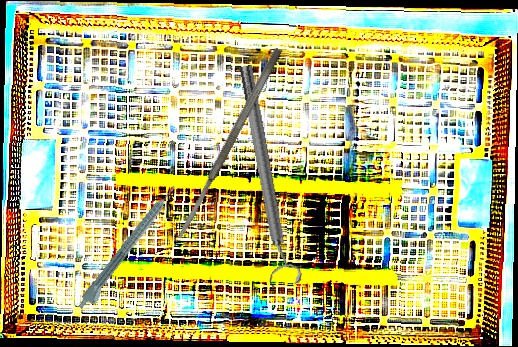Fixation Ring: (228, 62, 305, 289)
Handpiece: (75, 183, 184, 315)
Spatula Surgical: (173, 46, 285, 241)
